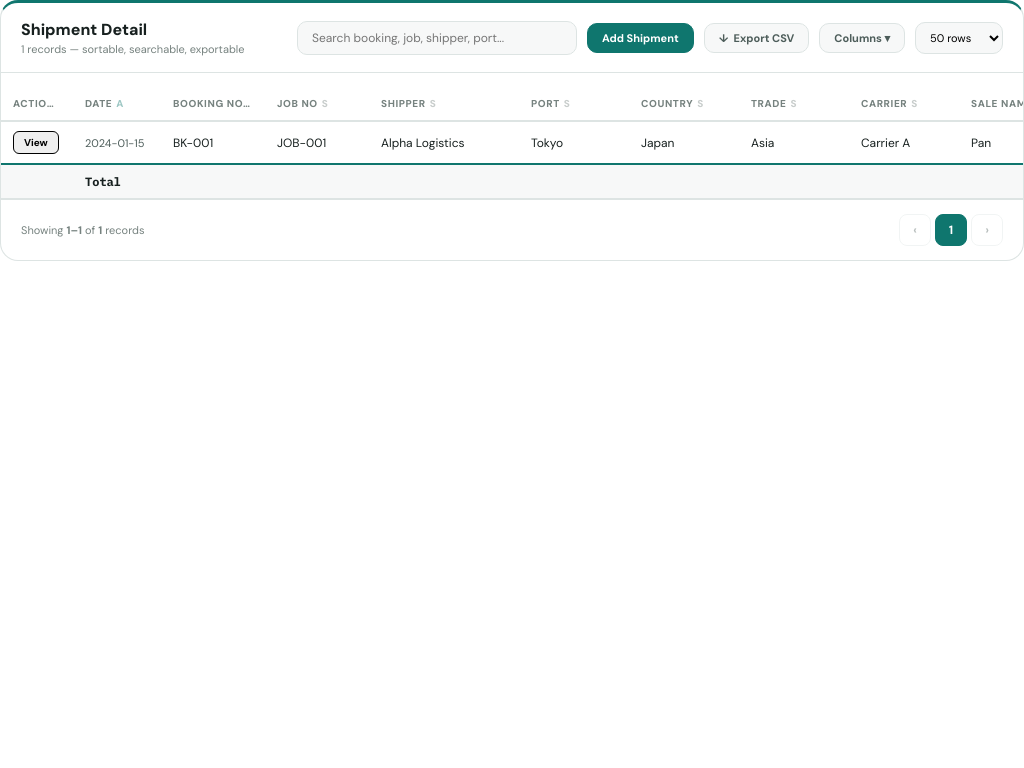
Test case: ShipmentsPage › opens read-only detail view for legacy rows without record ids
What coordinates should you click on to do the following:
click the button with aria-label "View BK-001"
I would click on:
 (36, 142)
Its box is [13,131,59,154].
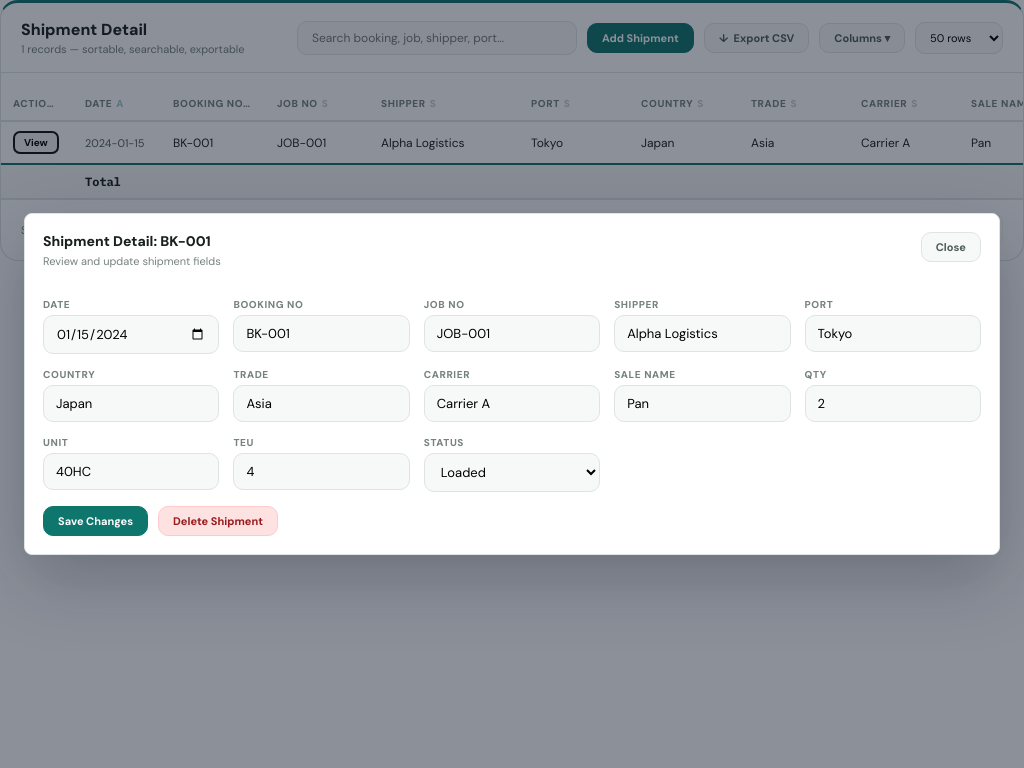
Check: the text "Shipment Detail: BK-001" is shown, box [43,232,221,250]
Check: the button "Save Changes" is disabled, box [43,506,148,536]
Check: the button "Delete Shipment" is disabled, box [158,506,278,536]
